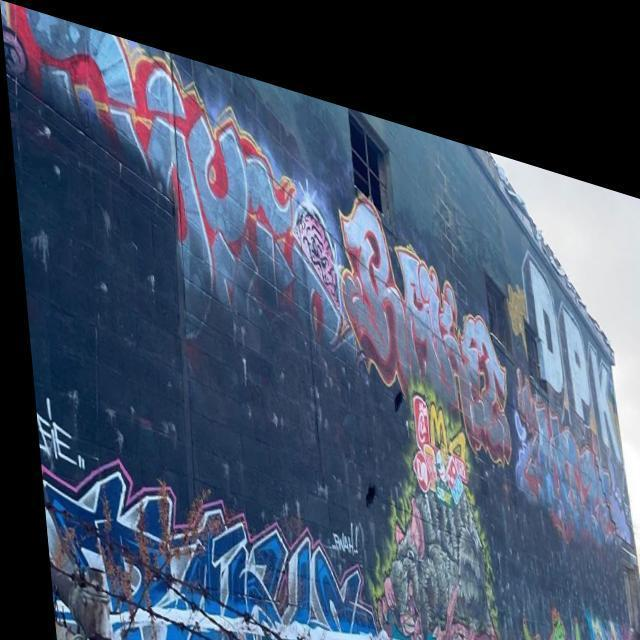-: (0, 0, 339, 379), (29, 417, 380, 640), (327, 132, 510, 438), (351, 355, 503, 640), (501, 336, 631, 529), (513, 206, 617, 422), (276, 175, 346, 344), (503, 565, 598, 640), (570, 563, 640, 640), (27, 384, 74, 479), (314, 479, 368, 558)
